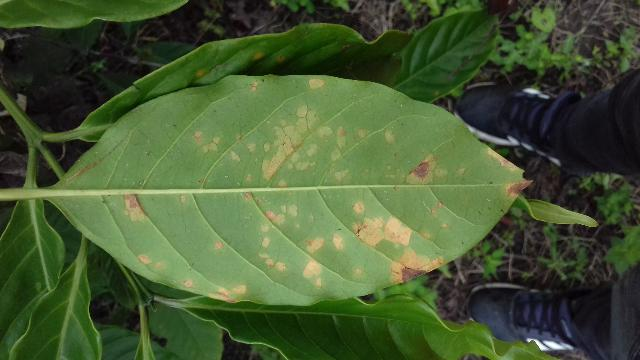rust_level_3: (46, 70, 538, 308)
